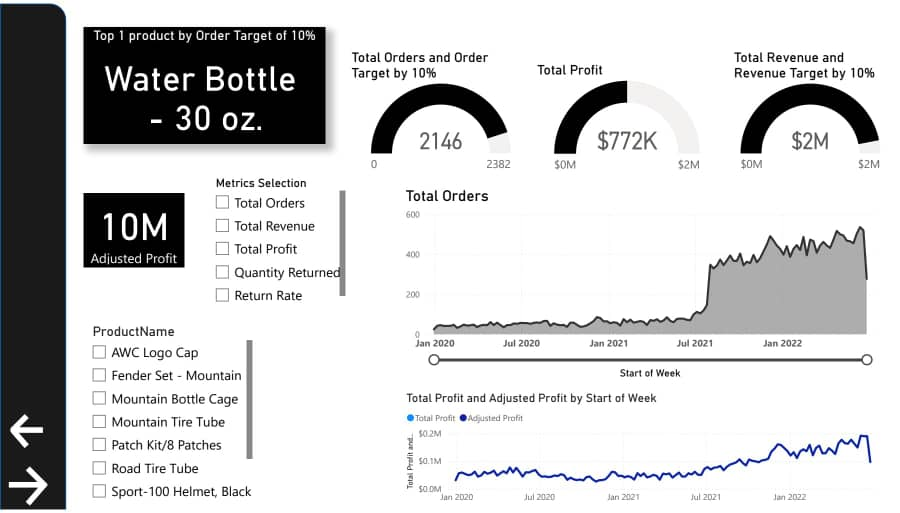

The dashboard page shown, as its layout file describes it:
{"tool":"powerbi","page":{"name":"Product Details","canvas":[1280,720],"ordinal":3},"visuals":[{"type":"gauge","title":"Total Orders and Order Target by 10%","fields":{"Y":["Calculated Measure.Total Orders"],"MaxValue":["Calculated Measure.Order Target"]},"box":[494.7,65.1,264.1,184.9],"z":0},{"type":"gauge","fields":{"Y":["Calculated Measure.Total Profit"]},"box":[758.8,82.8,265.9,167.3],"z":1000},{"type":"gauge","title":"Total Revenue and Revenue Target by 10%","fields":{"MaxValue":["Calculated Measure.Revenue Target"],"Y":["Calculated Measure.Total Revenue"]},"box":[1038.8,65.1,227.1,184.9],"z":2000},{"type":"stackedAreaChart","title":"Total Orders","fields":{"Category":["Calendar Lookup.Date Hierachy.Start of Week"],"Y":["Calculated Measure.Total Orders"]},"box":[572.2,260.6,693.7,278.2],"z":3000},{"type":"lineChart","fields":{"Category":["Calendar Lookup.Date Hierachy.Start of Week"],"Y":["Calculated Measure.Total Profit","Calculated Measure.Adjusted Profit"]},"box":[572.8,551,693.8,169.7],"z":4000},{"type":"slicer","fields":{"Values":["Metrics Selection.Metrics Selection"]},"box":[294,240.2,201.6,193.2],"z":5000},{"type":"card","fields":{"Values":["Calculated Measure.Adjusted Profit"]},"box":[119.3,270.4,142.8,105.8],"z":6000},{"type":"shape","box":[0,0,94.1,899.3],"z":7000},{"type":"slicer","fields":{"Values":["Product Lookup.ProductName"]},"box":[119.3,450.2,245.2,270.4],"z":8000},{"type":"card","title":"Top 1 product by Order Target of 10%","fields":{"Values":["Min(Product Lookup.ProductName)"]},"box":[119.3,33.6,344.4,166.3],"z":9000},{"type":"actionButton","box":[5,654.5,100.8,65.5],"z":10000},{"type":"actionButton","box":[0,579.5,79,57.1],"z":11000}]}

Visuals, with their boxes in screenshot pixels (x1, y1, x2, y2), scaled from the page's 1280x720 canvas onto the 900x513 screenshot:
"Total Orders and Order Target by 10%" gauge: 348 46 534 178
gauge - Calculated Measure.Total Profit: 534 59 720 178
"Total Revenue and Revenue Target by 10%" gauge: 730 46 890 178
"Total Orders" stackedAreaChart: 402 186 890 384
lineChart - Calendar Lookup.Date Hierachy.Start of Week x Calculated Measure.Total Profit: 403 393 891 512
slicer - Metrics Selection.Metrics Selection: 207 171 348 309
card - Calculated Measure.Adjusted Profit: 84 193 184 268
shape: 0 0 66 512
slicer - Product Lookup.ProductName: 84 321 256 512
"Top 1 product by Order Target of 10%" card: 84 24 326 142
actionButton: 4 466 74 512
actionButton: 0 413 56 454
